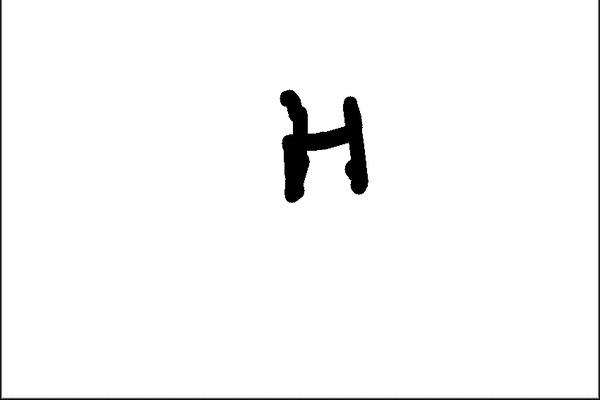H: (273, 84, 373, 211)
